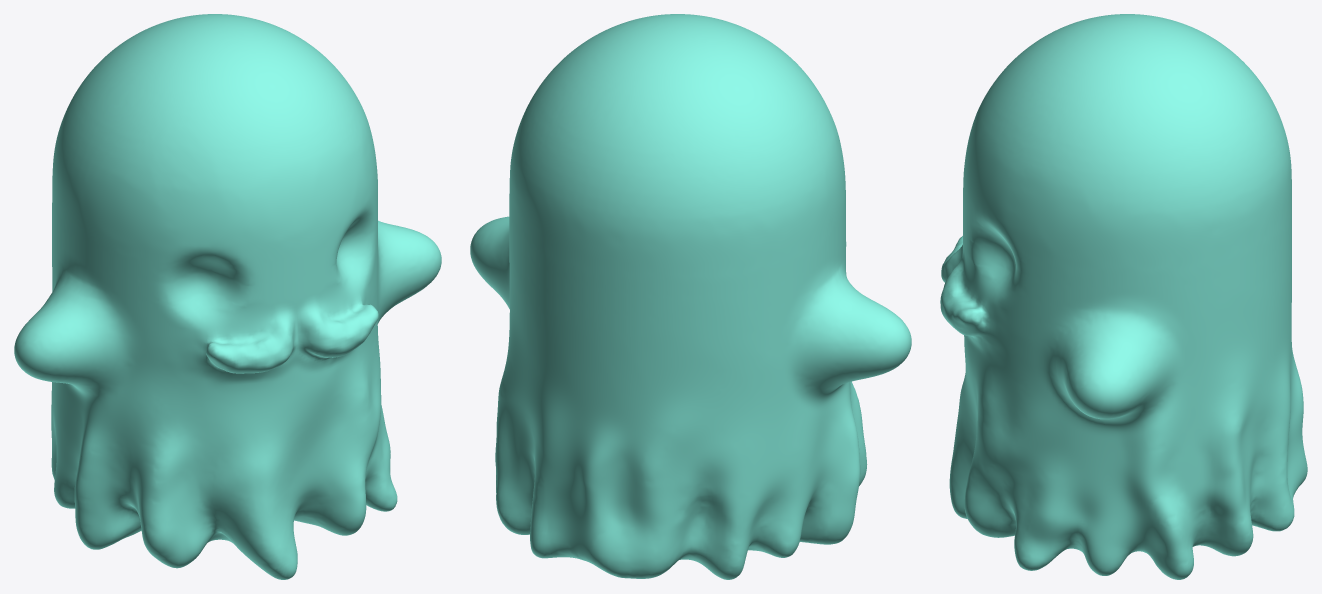
File: OldGhost v1.01.fbx
3 views of the same model, side by side, from view 1: azimuth 30°, elevation 25°; view 2: azimuth 150°, elevation 25°; view 3: azimuth 270°, elevation 25° (orthographic). The views are drawn at different scales.
Parts seen in each view (by area): view 1: Ghost_v3; view 2: Ghost_v3; view 3: Ghost_v3.
Part boxes in pixels (x1,y1,x2,y2): Ghost_v3: (14, 14, 441, 579); Ghost_v3: (470, 14, 911, 579); Ghost_v3: (940, 14, 1307, 579).
Bounding box in the file's own units: 2.58 × 2.87 × 1.94.
